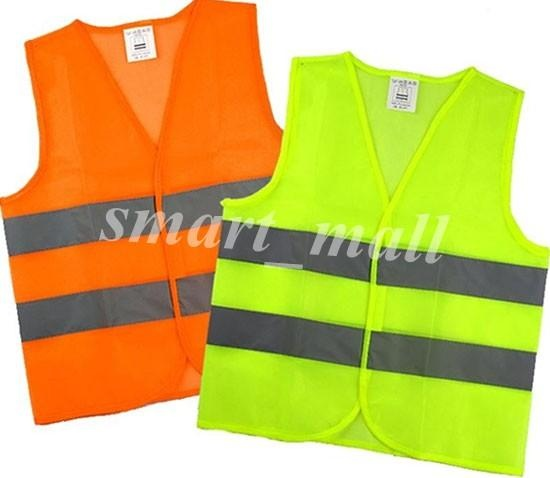safety vest: (214, 52, 536, 470), (5, 16, 283, 404)
